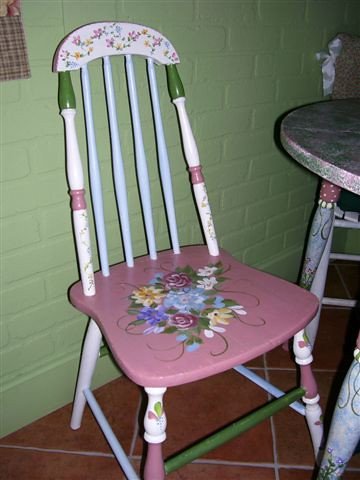chair: (38, 10, 339, 480)
